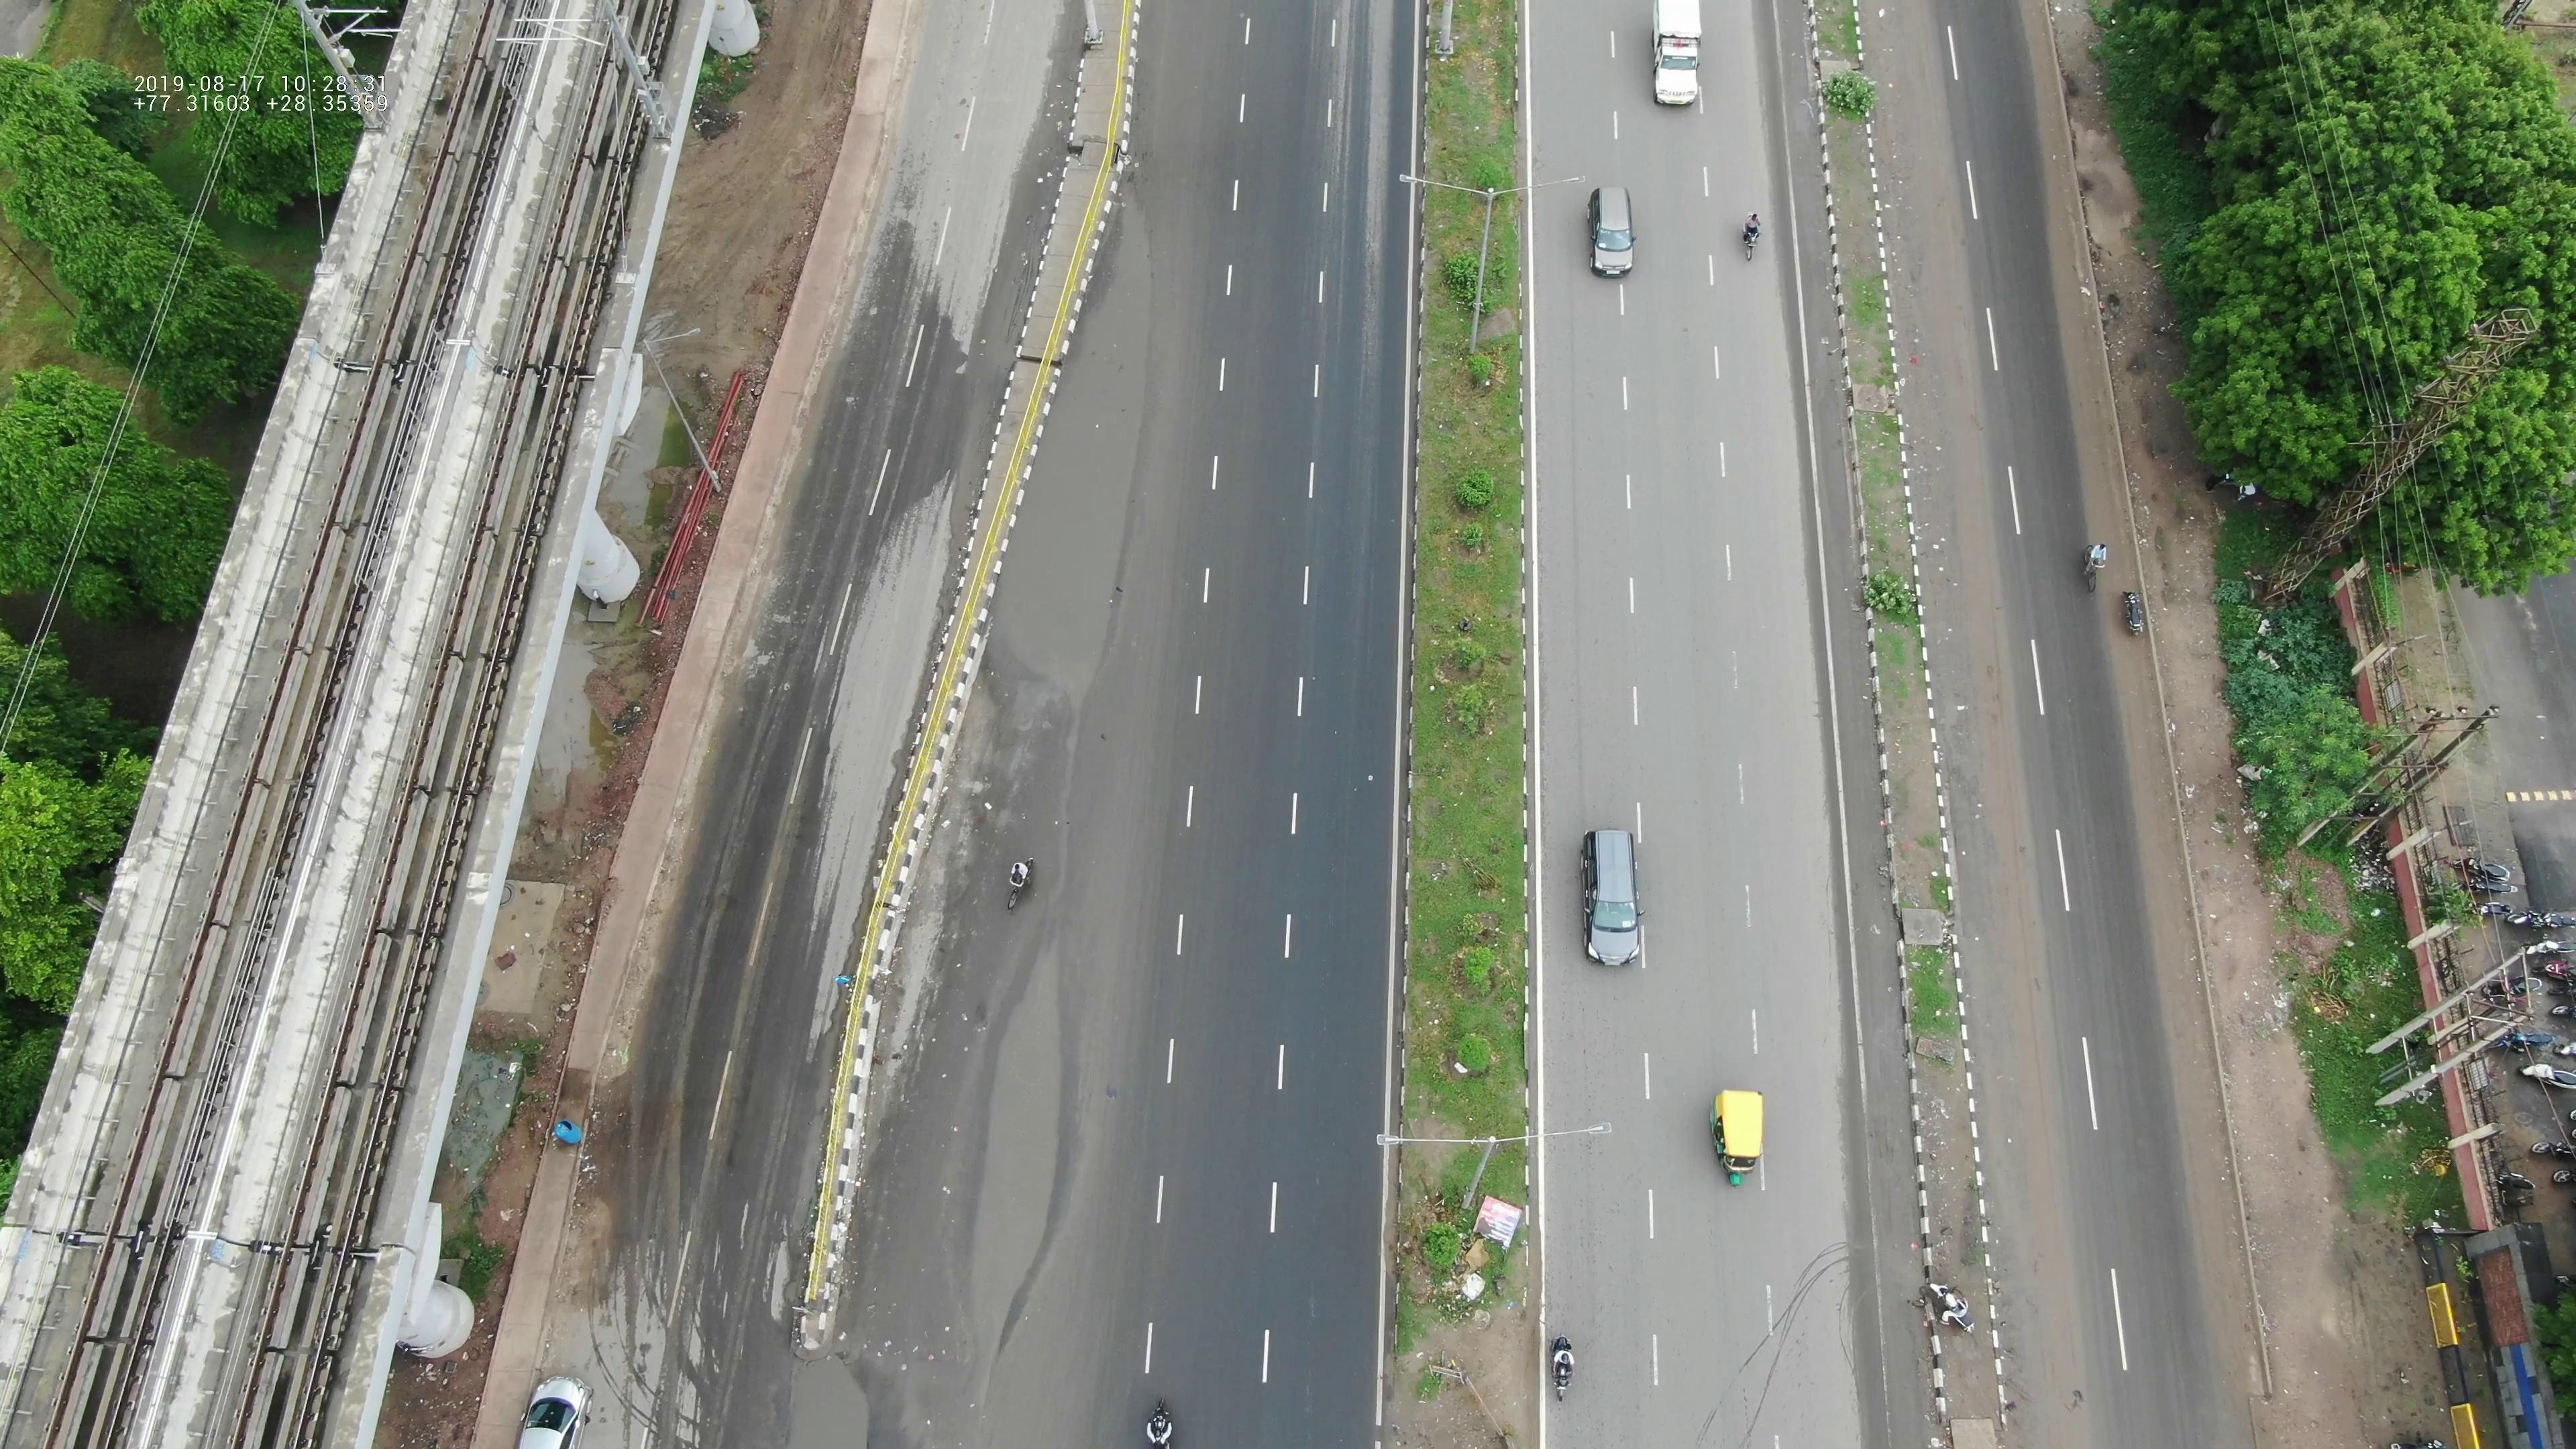Muddy_road: (1976, 1095, 2095, 1421), (1916, 400, 2019, 738), (1946, 759, 2054, 1063), (1881, 83, 1985, 380)
Potholes: (939, 893, 1123, 1346)
Waterlogging: (991, 216, 1155, 750)
